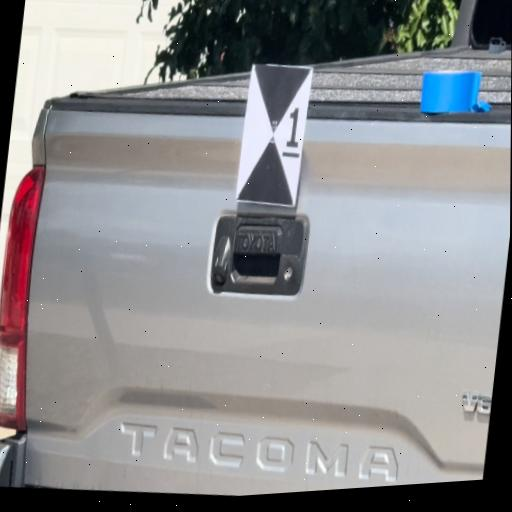target1: (237, 63, 311, 211)
